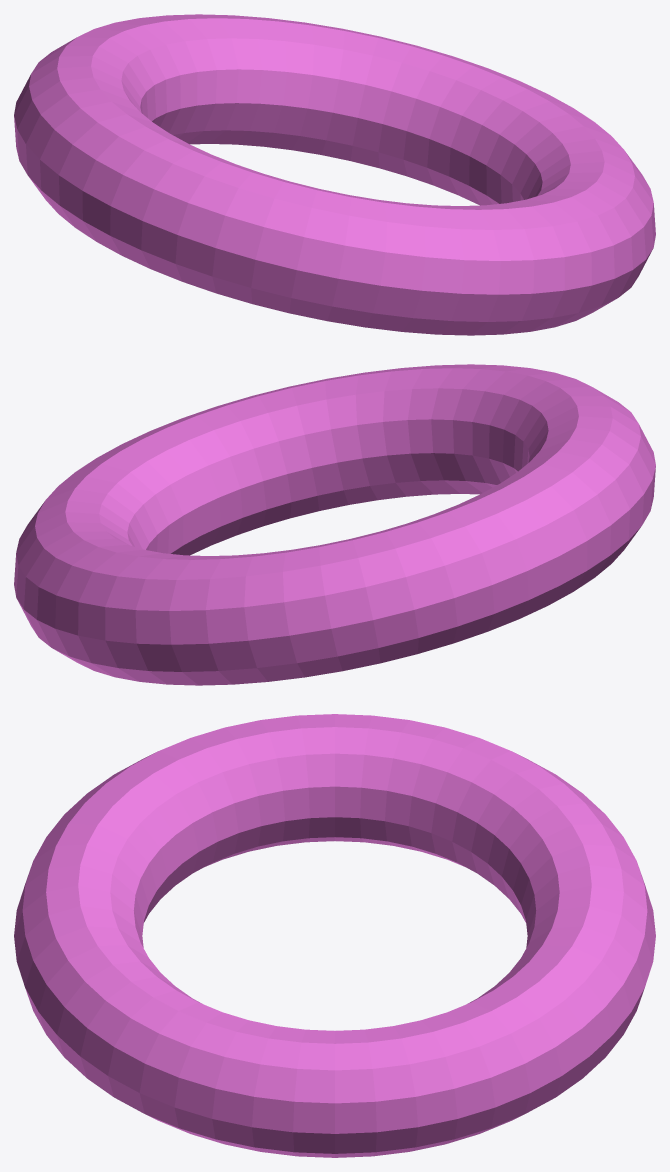
Rendered from testi.gltf.
3 renders of one model, top to bottom at view 1: azimuth 30°, elevation 25°; view 2: azimuth 150°, elevation 25°; view 3: azimuth 270°, elevation 25°, orthographic.
Parts seen in each view (by area): view 1: Torus; view 2: Torus; view 3: Torus.
Boxes of the visible parts, x1,y1,x2,y2 form: Torus: (14,14,655,335); Torus: (14,364,655,685); Torus: (14,714,655,1157).
Size of the model in its own units: 0.5327 by 0.2056 by 0.5469.
